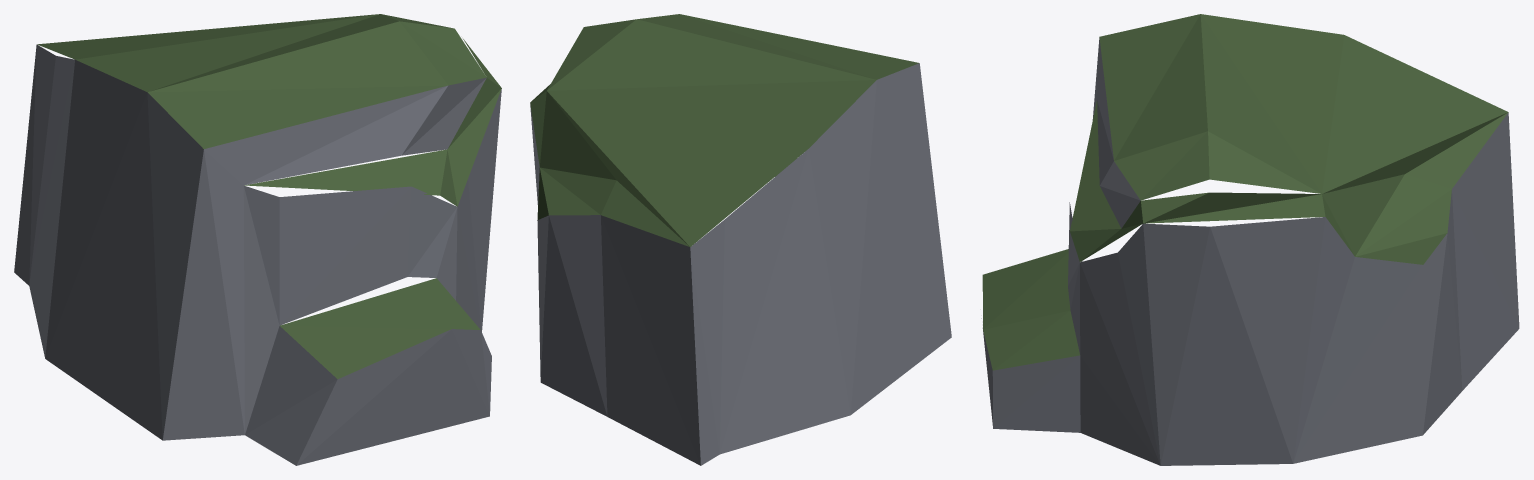
Rendered from qn_rock_moss_f.glb.
3 renders of one model, left to right at view 1: azimuth 30°, elevation 25°; view 2: azimuth 150°, elevation 25°; view 3: azimuth 270°, elevation 25°, orthographic. The views are drawn at different scales.
Parts seen in each view (by area): view 1: qn_rock_moss_f; view 2: qn_rock_moss_f; view 3: qn_rock_moss_f.
Part boxes in pixels (<box>): qn_rock_moss_f: <box>14,14,501,465</box>; qn_rock_moss_f: <box>530,14,951,465</box>; qn_rock_moss_f: <box>981,14,1519,465</box>.
Bounding box in the file's own units: 0.8834 × 0.7078 × 1.13.
